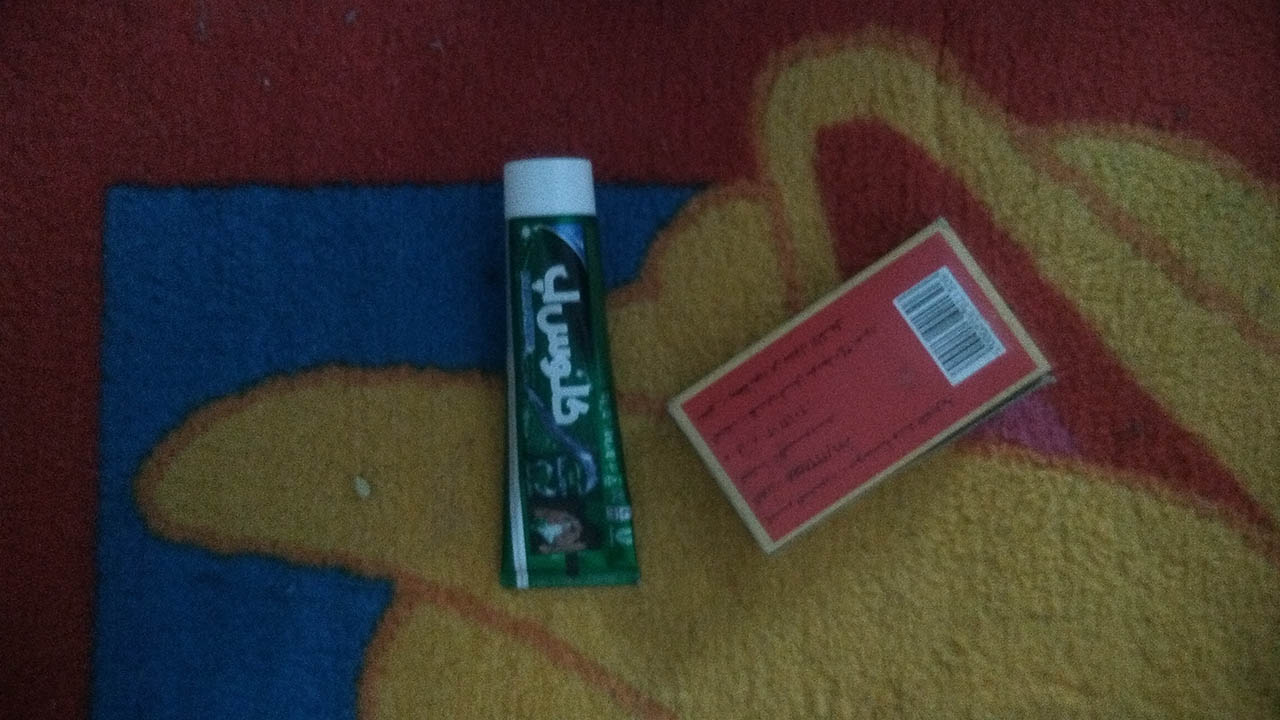Toothpaste-Closeup 3.04$: (481, 135, 654, 607)
match-sticks .90$: (663, 213, 1094, 565)
